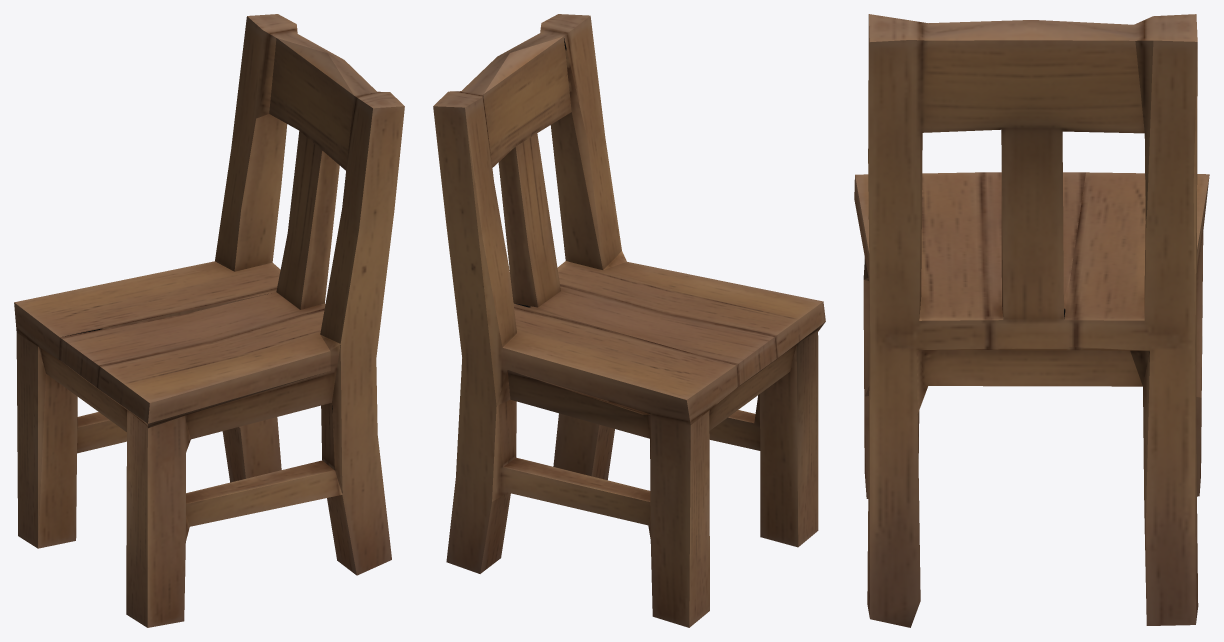
Rendered from chair_lod0.glb.
3 renders of one model, left to right at view 1: azimuth 30°, elevation 25°; view 2: azimuth 150°, elevation 25°; view 3: azimuth 270°, elevation 25°, orthographic. The views are drawn at different scales.
Visible parts, largest first — view 1: low; view 2: low; view 3: low.
Boxes of the visible parts, bbox=[...] form: low: bbox=[14, 14, 404, 627]; low: bbox=[433, 14, 825, 627]; low: bbox=[854, 14, 1209, 627].
Bounding box in the file's own units: 0.5971 × 1.02 × 0.5343.
1 material, 1 textured.
